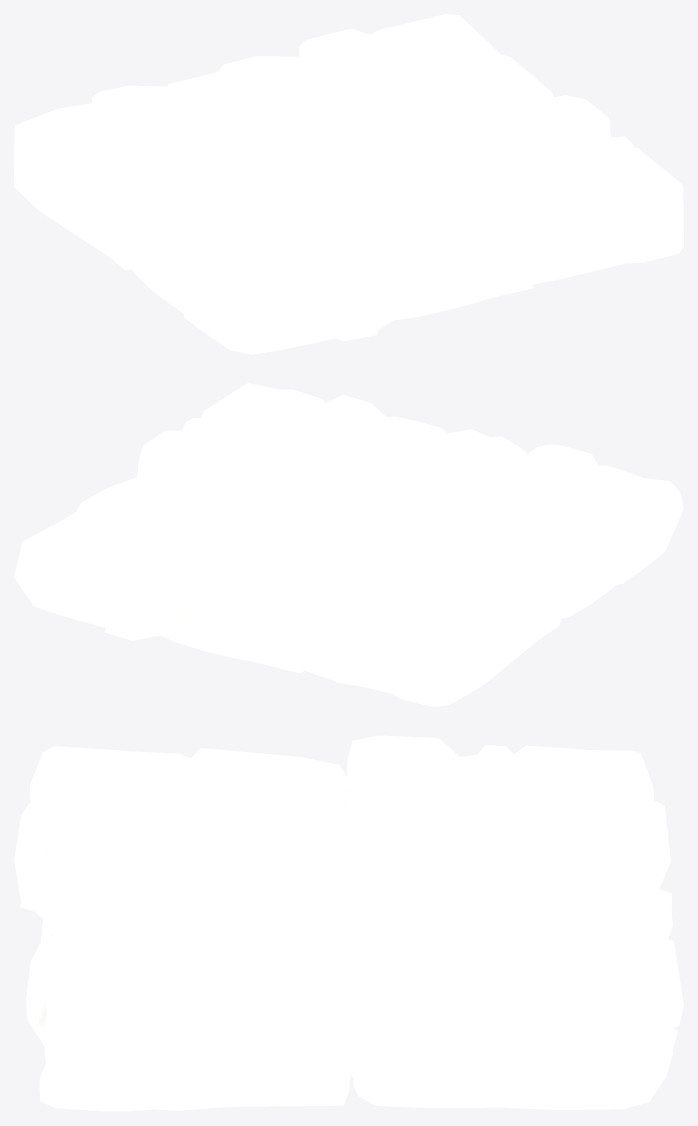
The model's file is RuinsFloor_A.fbx.
The picture shows the model from 3 angles, top to bottom: view 1: azimuth 30°, elevation 25°; view 2: azimuth 150°, elevation 25°; view 3: azimuth 270°, elevation 25°; orthographic projection. The views are drawn at different scales.
Visible parts, largest first — view 1: Dn_HL_RuinsFloor_A_Sqr.001; view 2: Dn_HL_RuinsFloor_A_Sqr.001; view 3: Dn_HL_RuinsFloor_A_Sqr.001.
Part boxes in pixels (box(x1,y1,x2,y2)): Dn_HL_RuinsFloor_A_Sqr.001: box(14, 14, 683, 354); Dn_HL_RuinsFloor_A_Sqr.001: box(14, 383, 683, 706); Dn_HL_RuinsFloor_A_Sqr.001: box(14, 735, 683, 1111).
Bounding box in the file's own units: 8522 × 1327 × 8428.
